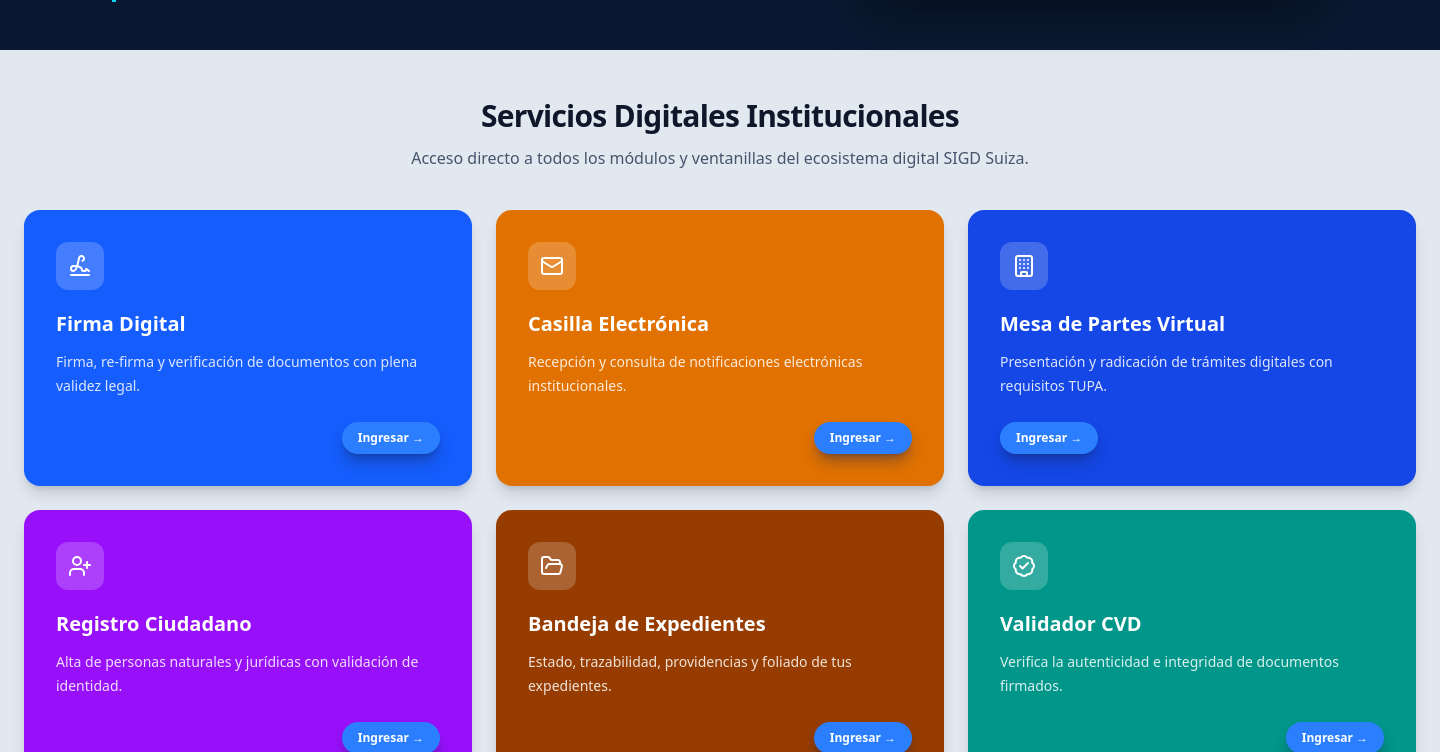
it: Acceso a Mesa de Partes Virtual desde el portal › valida usuario y contraseña antes de conceder el acceso
(page scrolled)
Click the button "Mesa de Partes Virtual": (1024, 266) [968,210,1416,486]
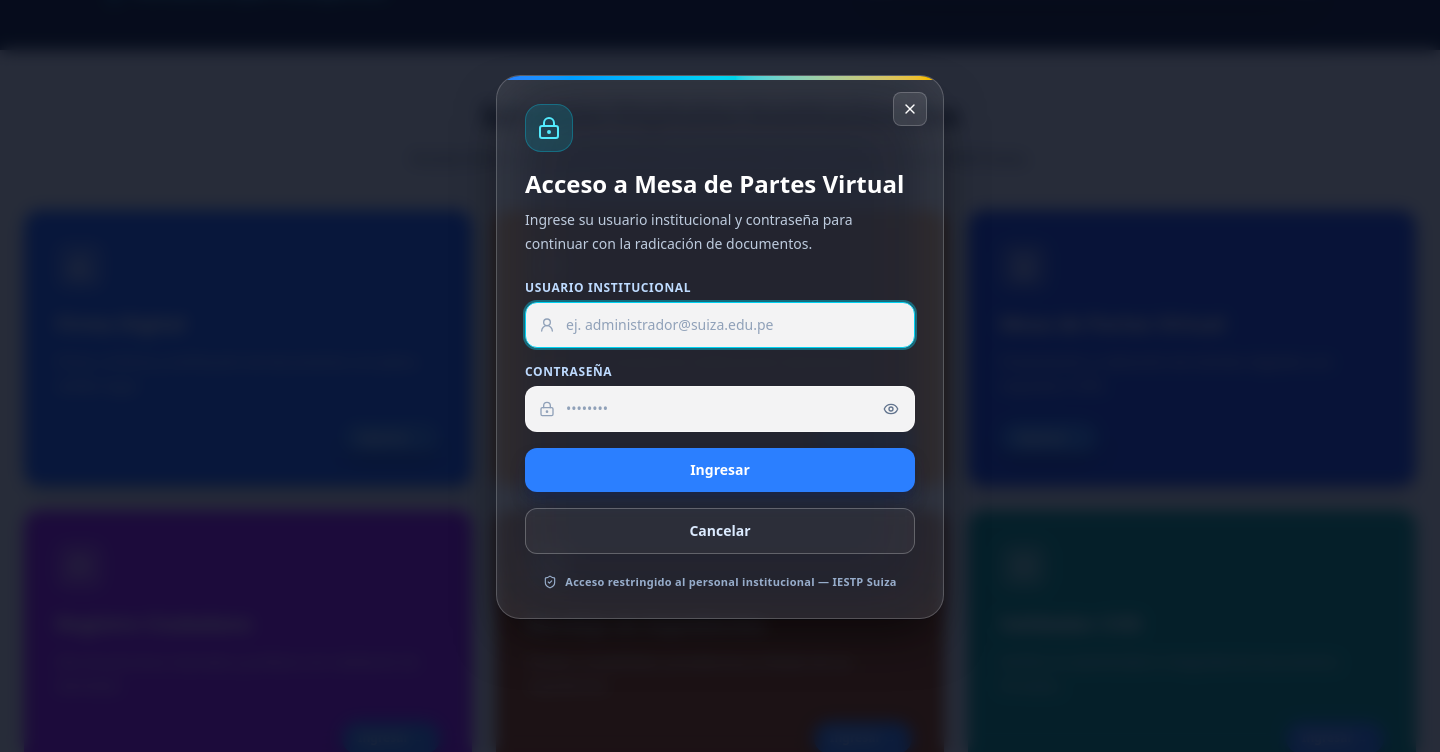
Click the button "Ingresar": (720, 470) [525,448,915,492]
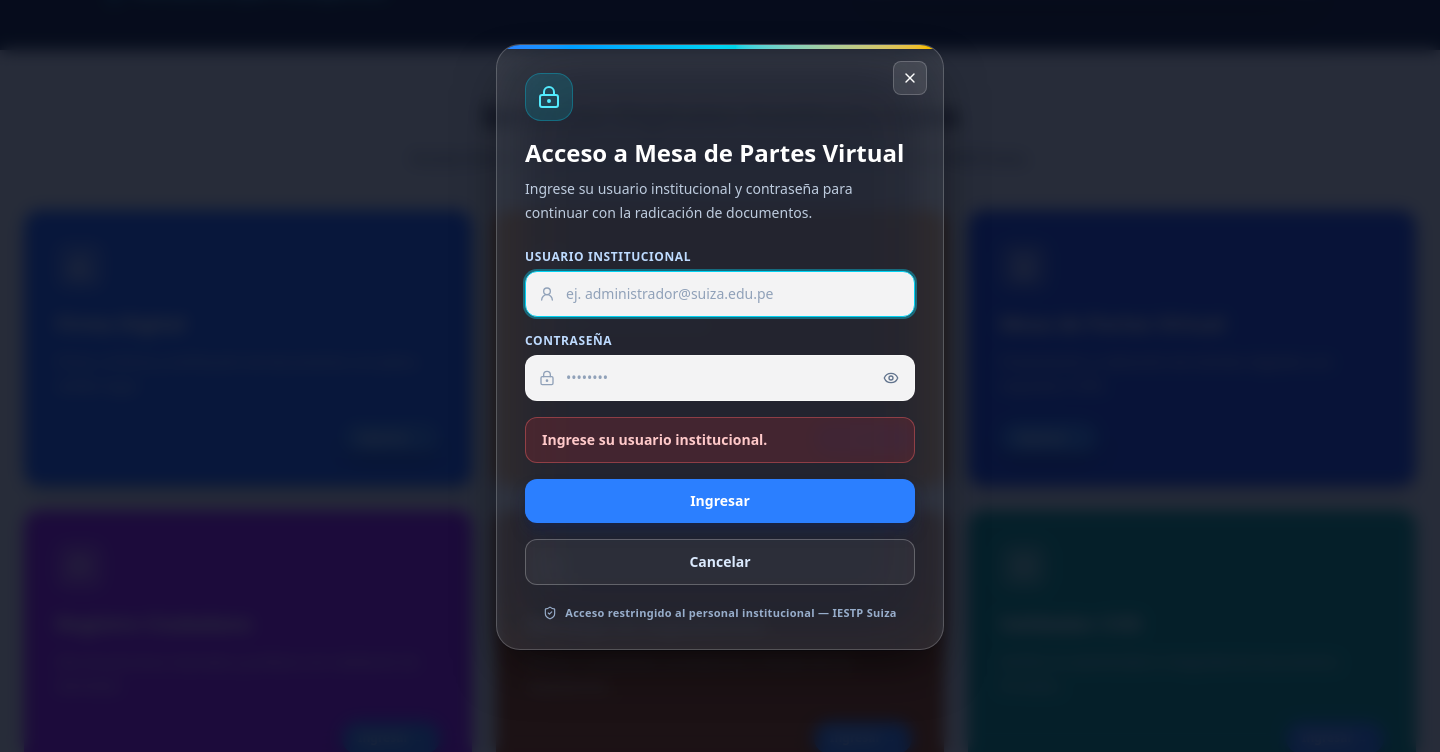
Expected: the message reads "Ingrese su usuario institucional.", [542,430,767,449]
In the field labelled "Usuario institucional": (720, 294) [525,271,915,317], type "admin"
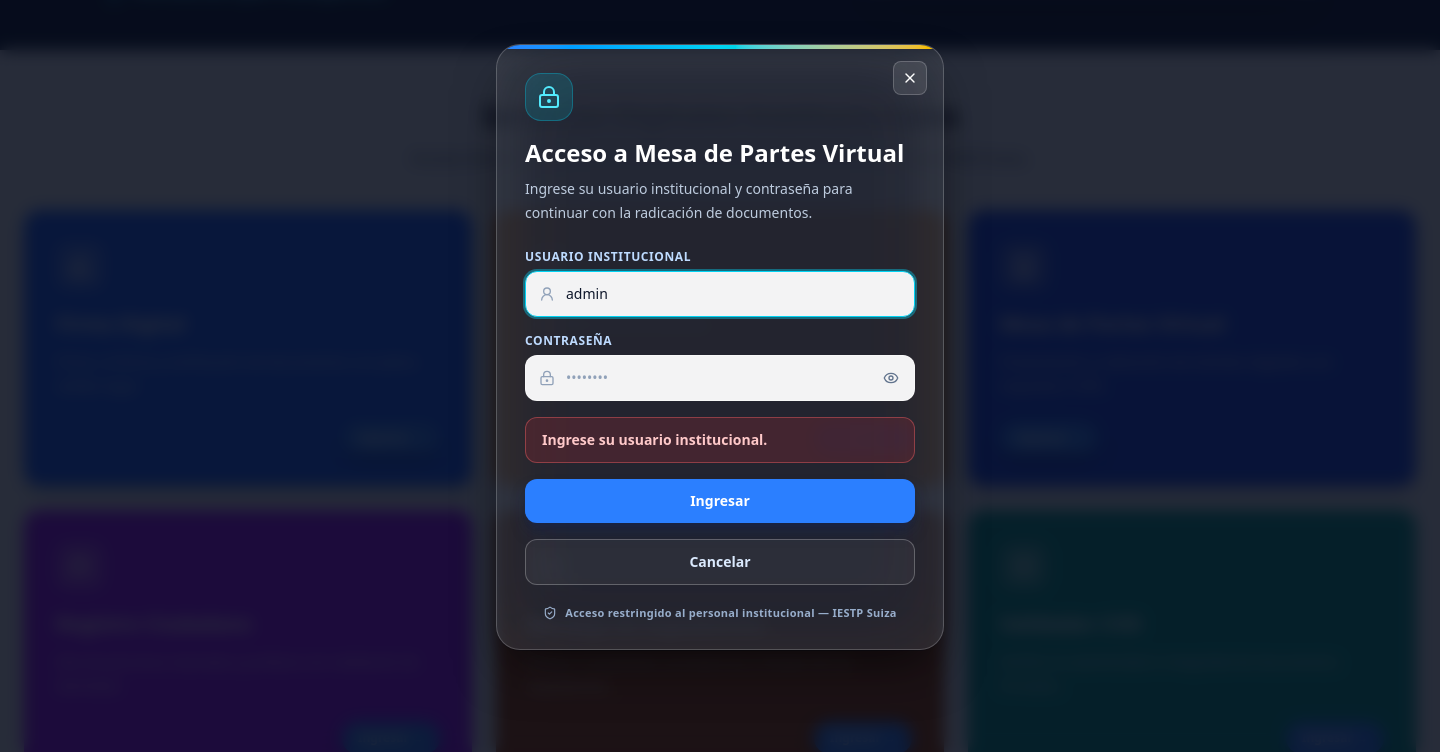
Click the button "Ingresar": (720, 501) [525,479,915,523]
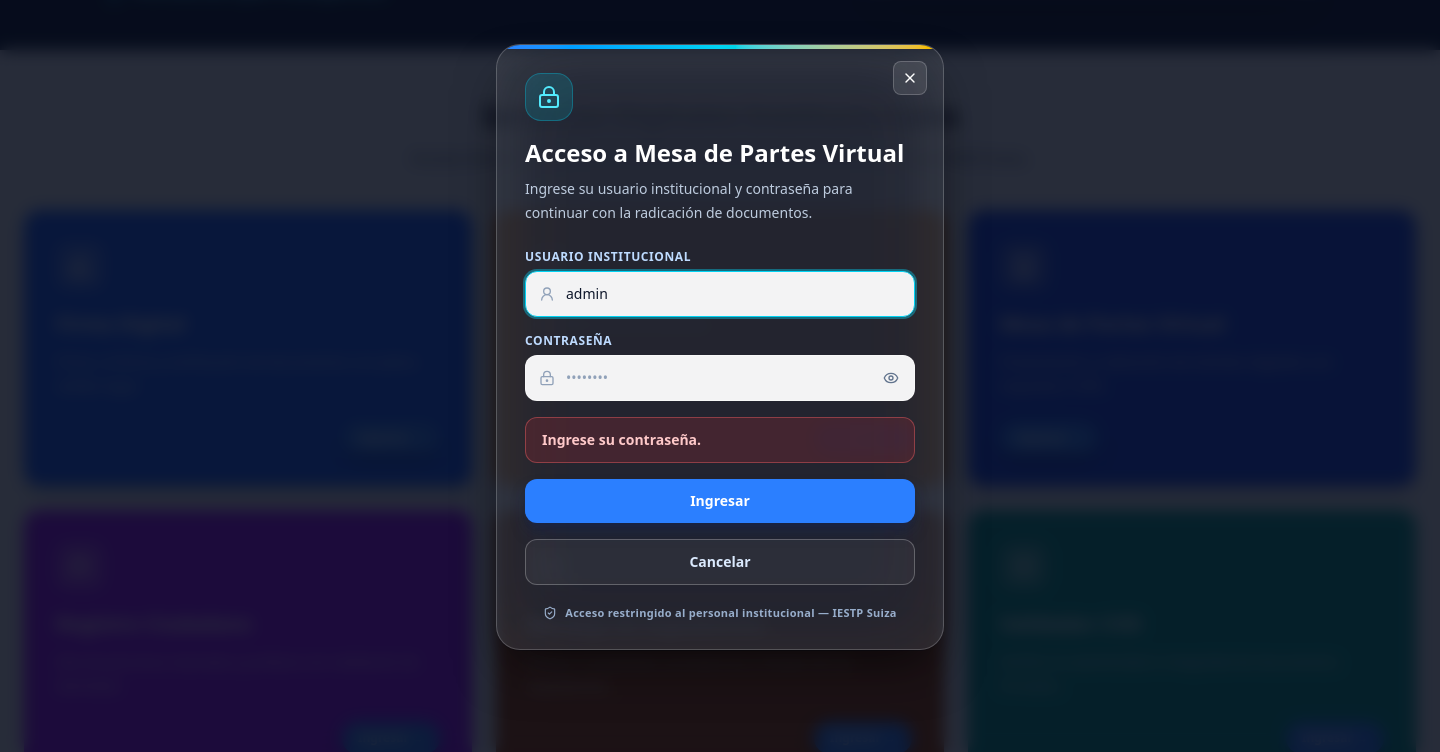
Expected: the message reads "Ingrese su contraseña.", [542,430,701,449]
